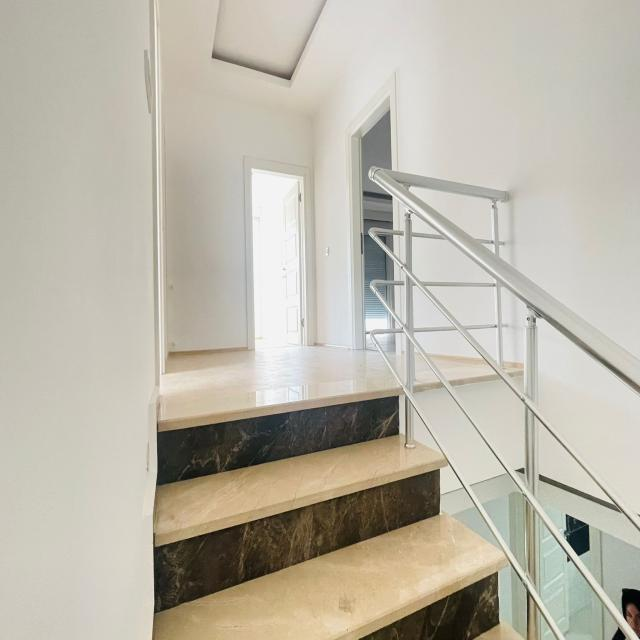stairs: (152, 380, 522, 638)
